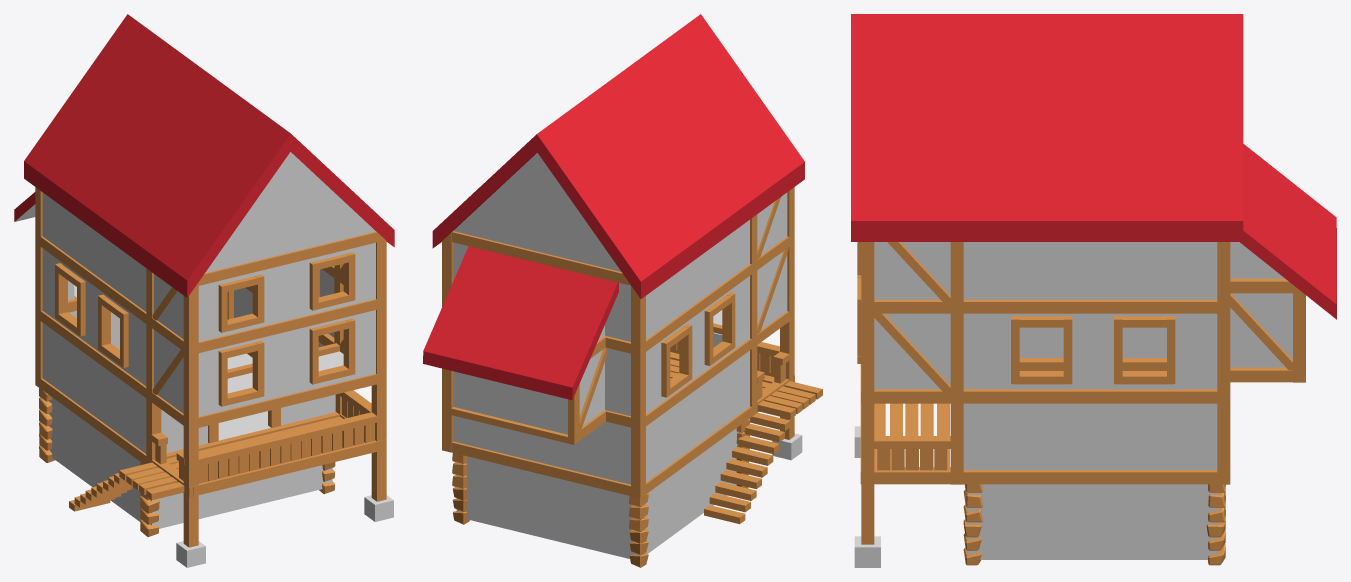
Rendered from BuildingTest-merged.fbx.
3 views of the same model, side by side, from view 1: azimuth 30°, elevation 25°; view 2: azimuth 150°, elevation 25°; view 3: azimuth 270°, elevation 25° (orthographic). The views are drawn at different scales.
Parts seen in each view (by area): view 1: House; view 2: House; view 3: House.
Part boxes in pixels (x1,y1,x2,y2): House: (14, 14, 394, 567); House: (423, 14, 822, 567); House: (851, 14, 1336, 567).
Size of the model in its own units: 437 by 741 by 652.
